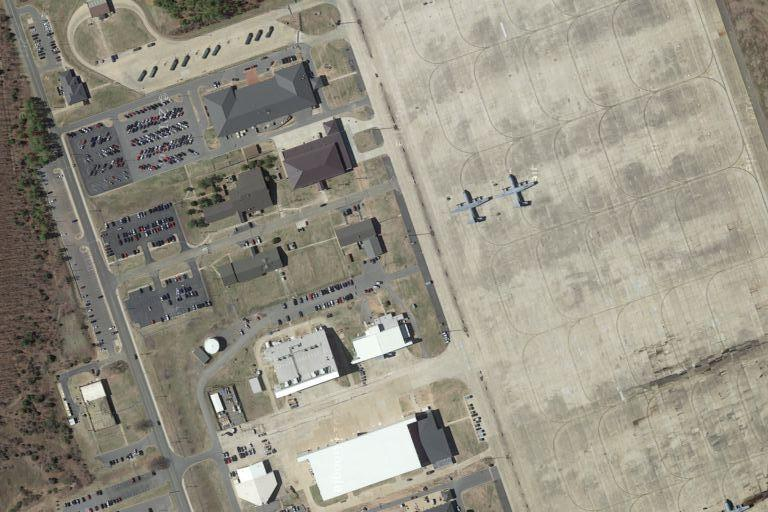C-130: (449, 184, 495, 231), (494, 170, 542, 215)
